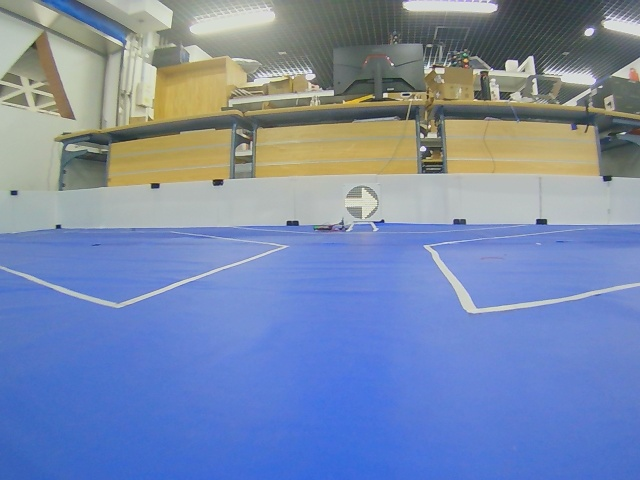right_yellow: (345, 186, 379, 220)
